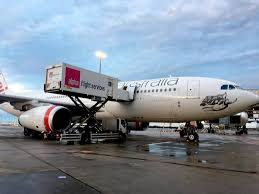Catering truck: (42, 62, 140, 144)
